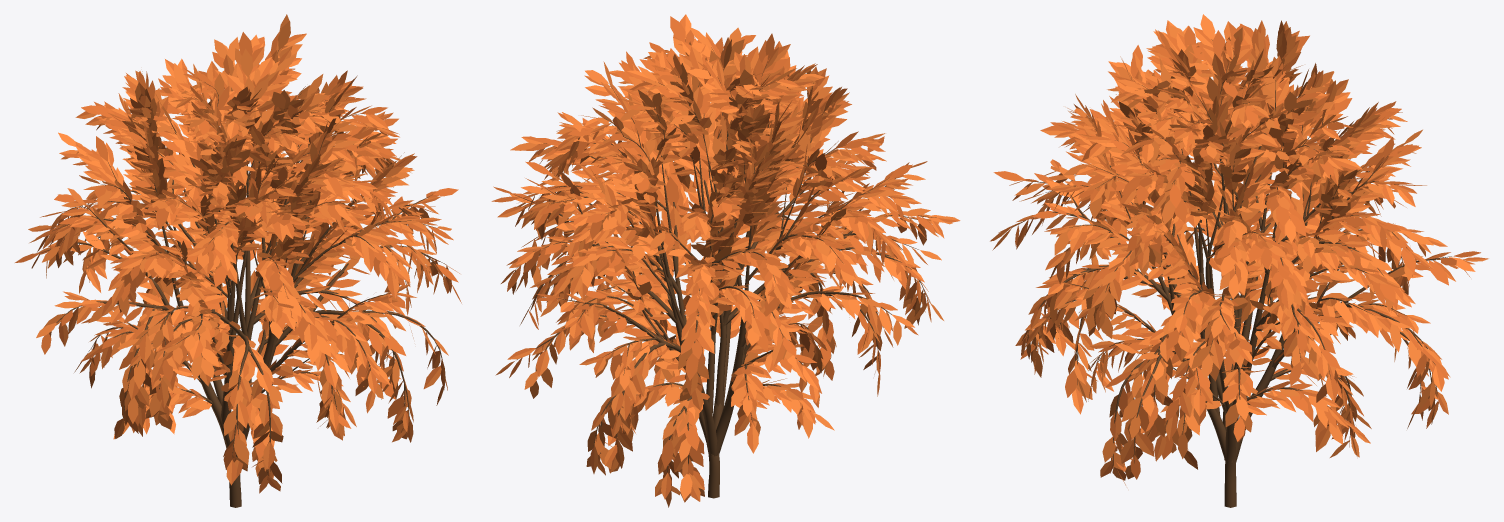
Rendered from tree_fall.fbx.
The picture shows the model from 3 angles, left to right: view 1: azimuth 30°, elevation 25°; view 2: azimuth 150°, elevation 25°; view 3: azimuth 270°, elevation 25°; orthographic projection. The views are drawn at different scales.
Visible parts, largest first — view 1: leaves, tree; view 2: leaves, tree; view 3: leaves, tree.
Part boxes in pixels (x1,y1,x2,y2): leaves: (15,14,461,493); tree: (41,50,449,507); leaves: (491,14,960,507); tree: (514,39,936,498); leaves: (990,14,1488,485); tree: (1012,39,1451,507).
Size of the model in its own units: 613 by 626 by 606.
